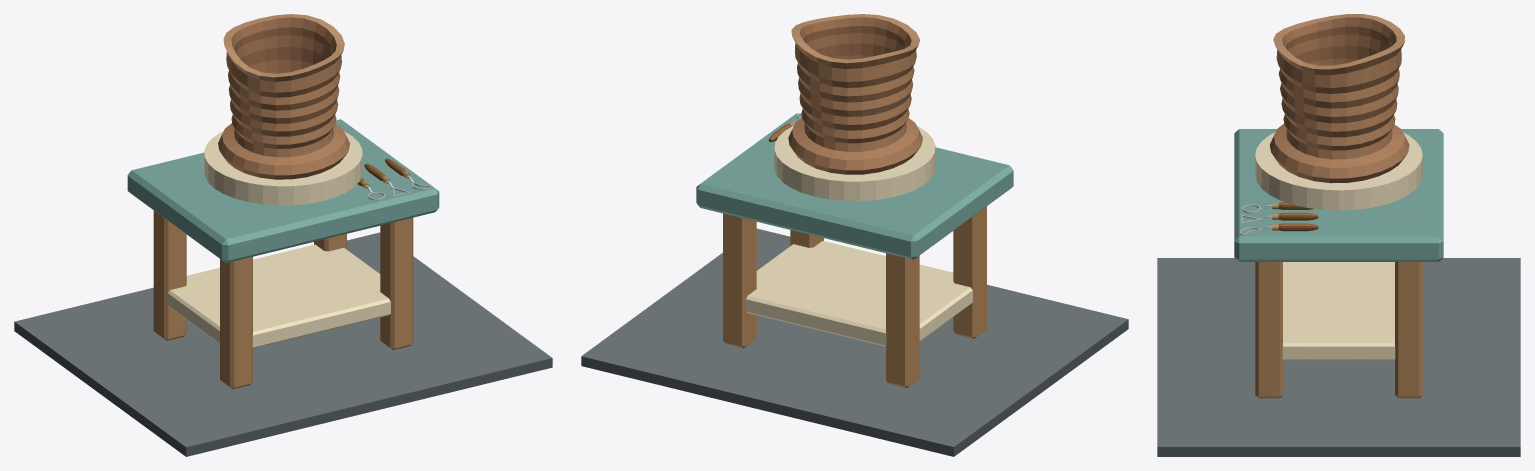
3 views of the same model, side by side, from view 1: azimuth 30°, elevation 25°; view 2: azimuth 150°, elevation 25°; view 3: azimuth 270°, elevation 25° (orthographic). The views are drawn at different scales.
Visible parts, largest first — view 1: wheel__ceramics-turntable-bench-01, SCENE_ONLY__TrimmingFloor, blank__ContinuousUntrimmedPulledClayBlank; view 2: wheel__ceramics-turntable-bench-01, SCENE_ONLY__TrimmingFloor, blank__ContinuousUntrimmedPulledClayBlank; view 3: SCENE_ONLY__TrimmingFloor, wheel__ceramics-turntable-bench-01, blank__ContinuousUntrimmedPulledClayBlank.
Boxes of the visible parts, x1,y1,x2,y2 form: wheel__ceramics-turntable-bench-01: (127, 119, 439, 389); SCENE_ONLY__TrimmingFloor: (14, 232, 552, 456); blank__ContinuousUntrimmedPulledClayBlank: (218, 14, 349, 179); wheel__ceramics-turntable-bench-01: (696, 113, 1013, 387); SCENE_ONLY__TrimmingFloor: (581, 228, 1128, 456); blank__ContinuousUntrimmedPulledClayBlank: (788, 14, 922, 174); SCENE_ONLY__TrimmingFloor: (1157, 258, 1520, 456); wheel__ceramics-turntable-bench-01: (1234, 129, 1443, 398); blank__ContinuousUntrimmedPulledClayBlank: (1270, 14, 1409, 183).
Bounding box in the file's own units: 1.6 × 1.29 × 1.3.
